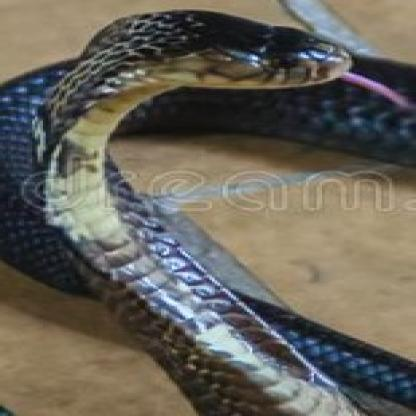Snake: (29, 3, 358, 397)
